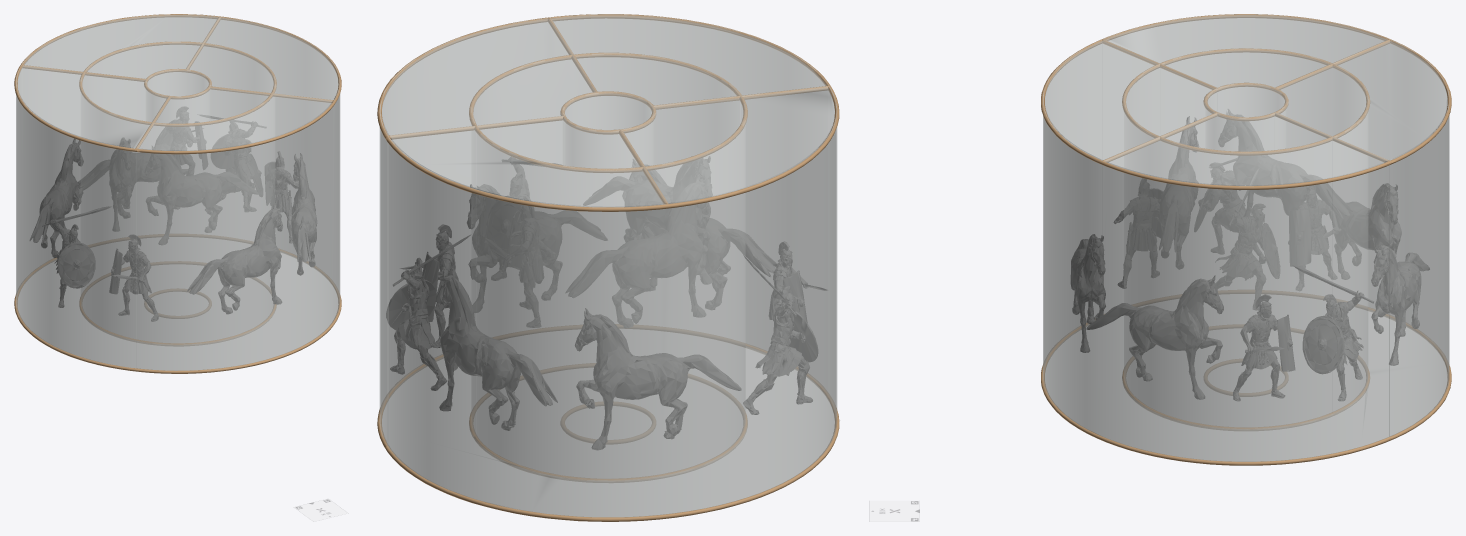
File: project1.glb
3 renders of one model, left to right at view 1: azimuth 30°, elevation 25°; view 2: azimuth 150°, elevation 25°; view 3: azimuth 270°, elevation 25°, orthographic. The views are drawn at different scales.
Visible parts, largest first — view 1: 01 Badar Borbala, TRACK; view 2: 01 Badar Borbala; view 3: 01 Badar Borbala, TRACK.
Part boxes in pixels (x1,y1,x2,y2): 01 Badar Borbala: (14,14,341,373); TRACK: (294,499,347,521); 01 Badar Borbala: (377,14,839,521); 01 Badar Borbala: (1041,14,1451,465); TRACK: (869,501,919,521).
Bounding box in the file's own units: 4.04 × 4.44 × 5.73.
4 materials, 1 textured.
